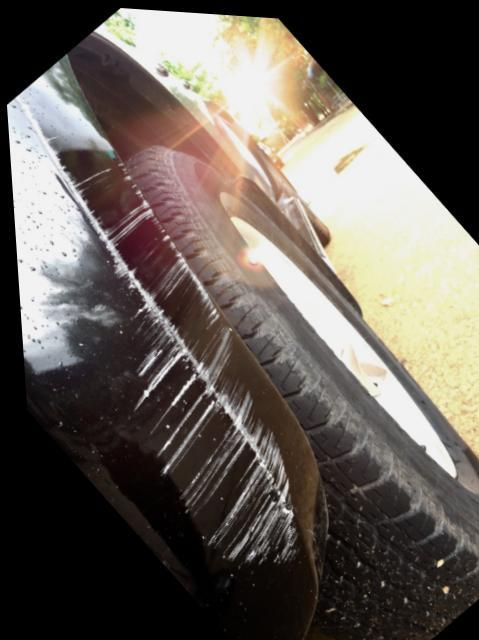scratch: (12, 91, 295, 569)
